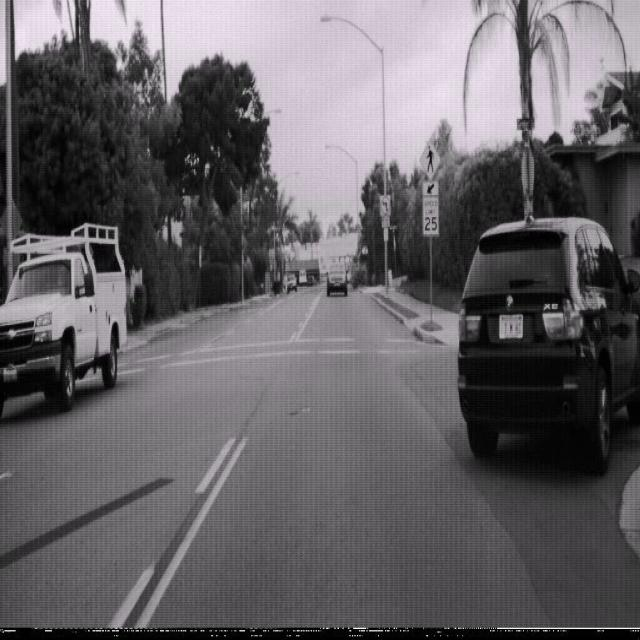pedestrianCrossing: (418, 136, 441, 180)
speedLimit25: (422, 194, 439, 236)
